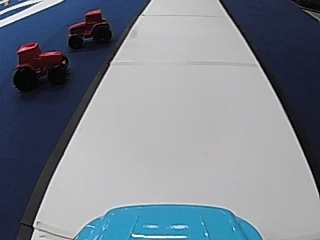Tracktor: (13, 38, 70, 92), (66, 6, 113, 48)
